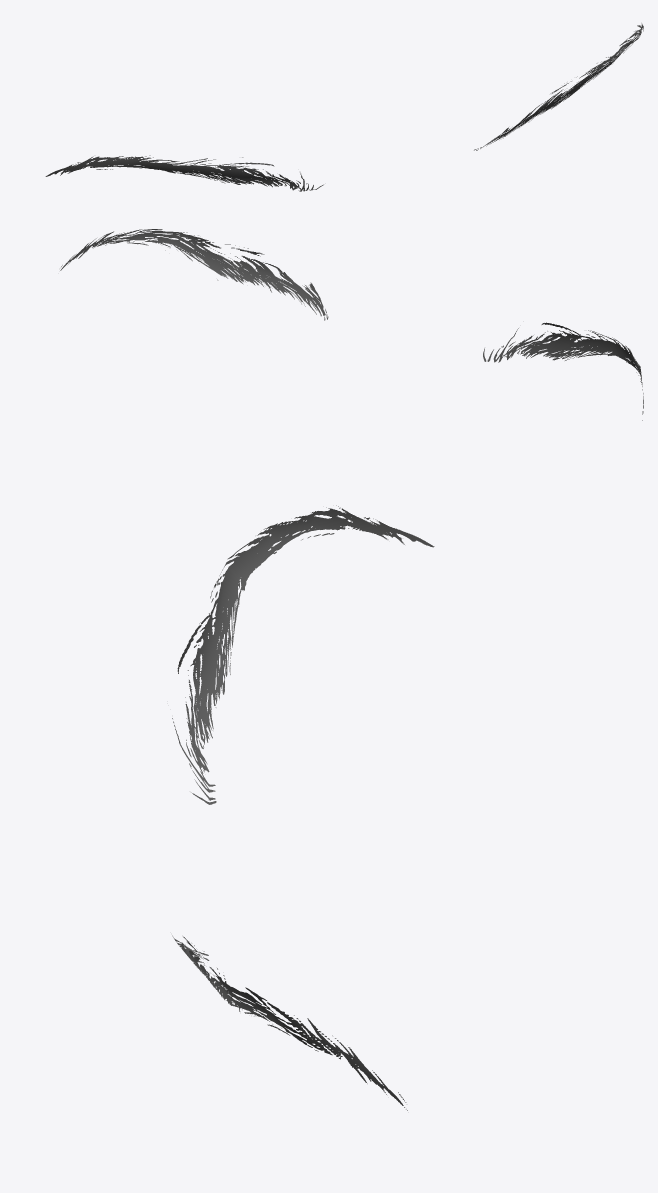
The model's file is brow011.glb.
3 renders of one model, top to bottom at view 1: azimuth 30°, elevation 25°; view 2: azimuth 150°, elevation 25°; view 3: azimuth 270°, elevation 25°, orthographic. The views are drawn at different scales.
Parts seen in each view (by area): view 1: editor_brow011; view 2: editor_brow011; view 3: editor_brow011.
Part boxes in pixels (x1=…): editor_brow011: x1=45, y1=23, x2=643, y2=191; editor_brow011: x1=60, y1=229, x2=643, y2=420; editor_brow011: x1=172, y1=505, x2=434, y2=1110.
Size of the model in its own units: 0.1139 by 0.0136 by 0.0279.
Materials: 1 (1 with a texture image).
